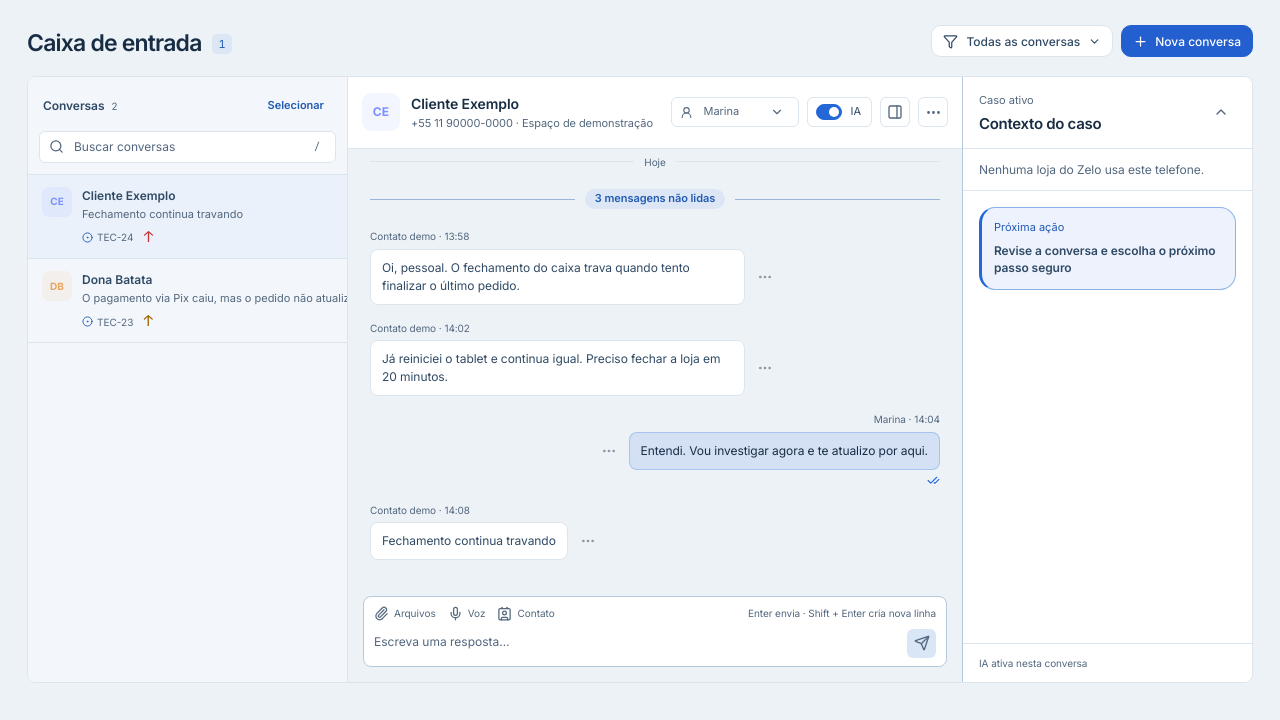
it: InboxPage new chat › selects a contiguous range with Shift+click
(page scrolled)
Click the button "Selecionar" at [296, 106], box top-left (260, 92), bottom-right (332, 120)
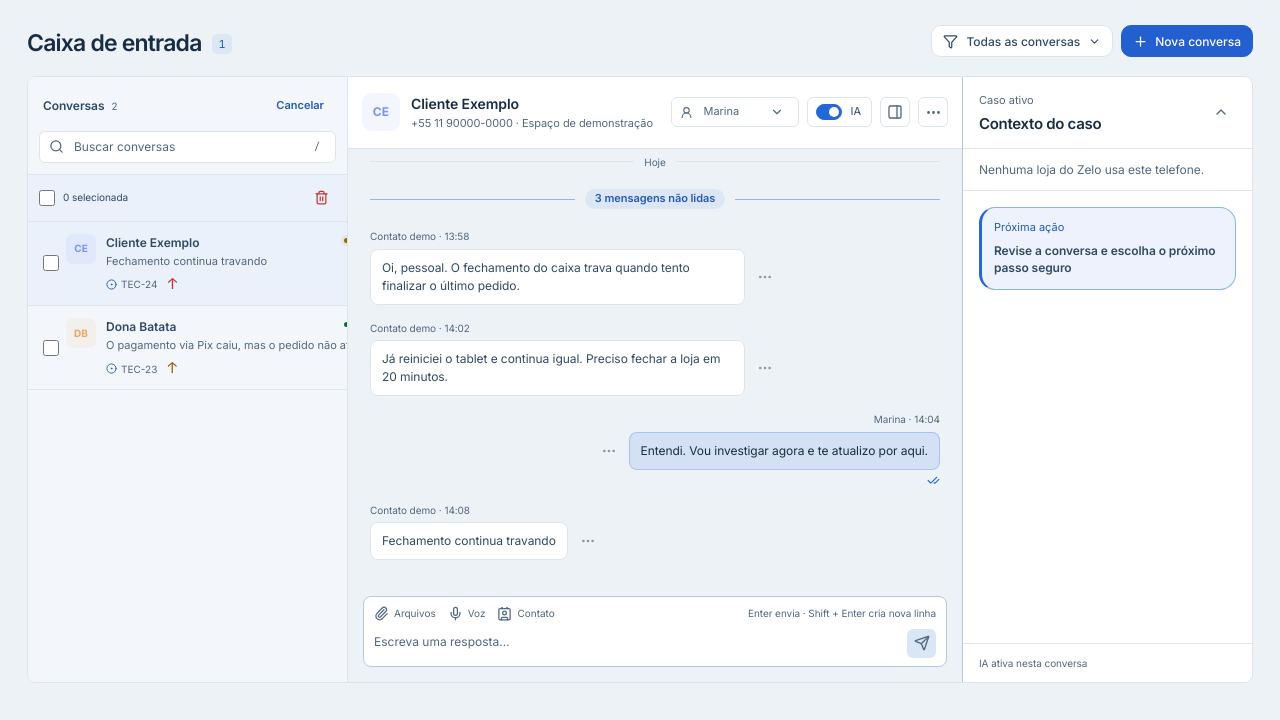
Click the 2nd checkbox at [51, 263], box top-left (43, 255), bottom-right (59, 271)
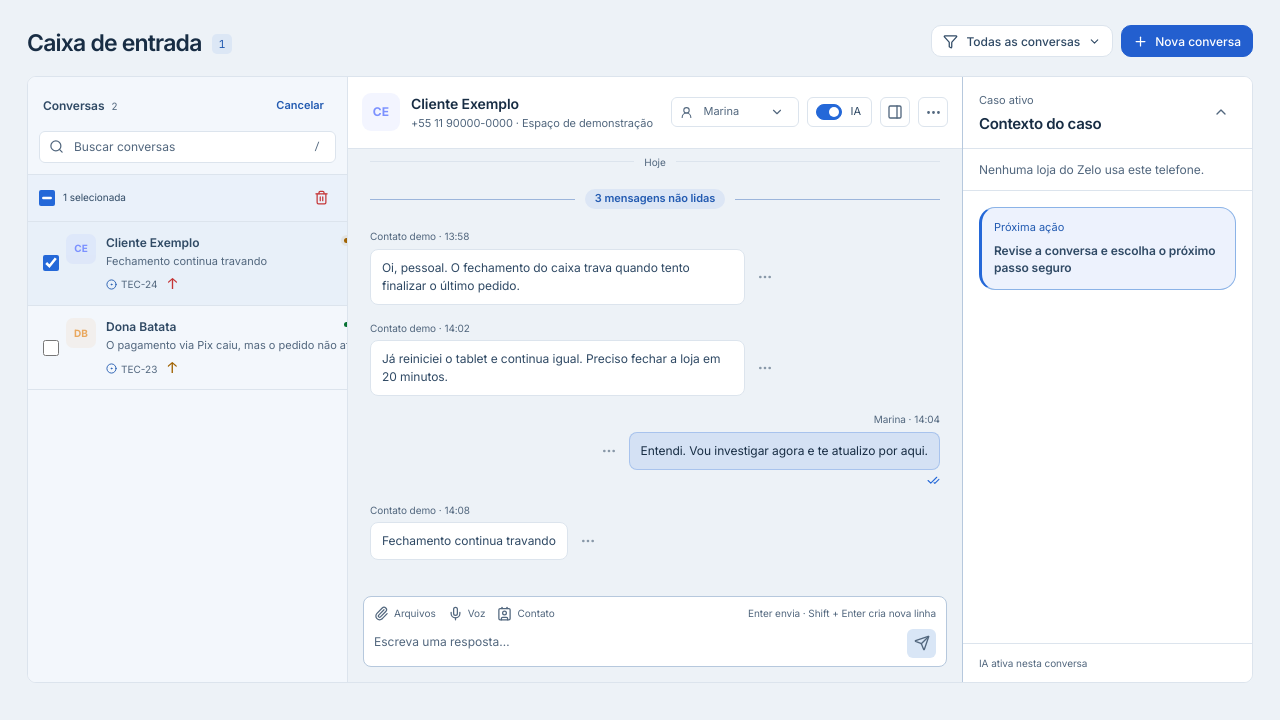
Click the button with aria-label "Alternar seleção da conversa com Dona Batata" at [230, 348], box top-left (66, 306), bottom-right (394, 389)
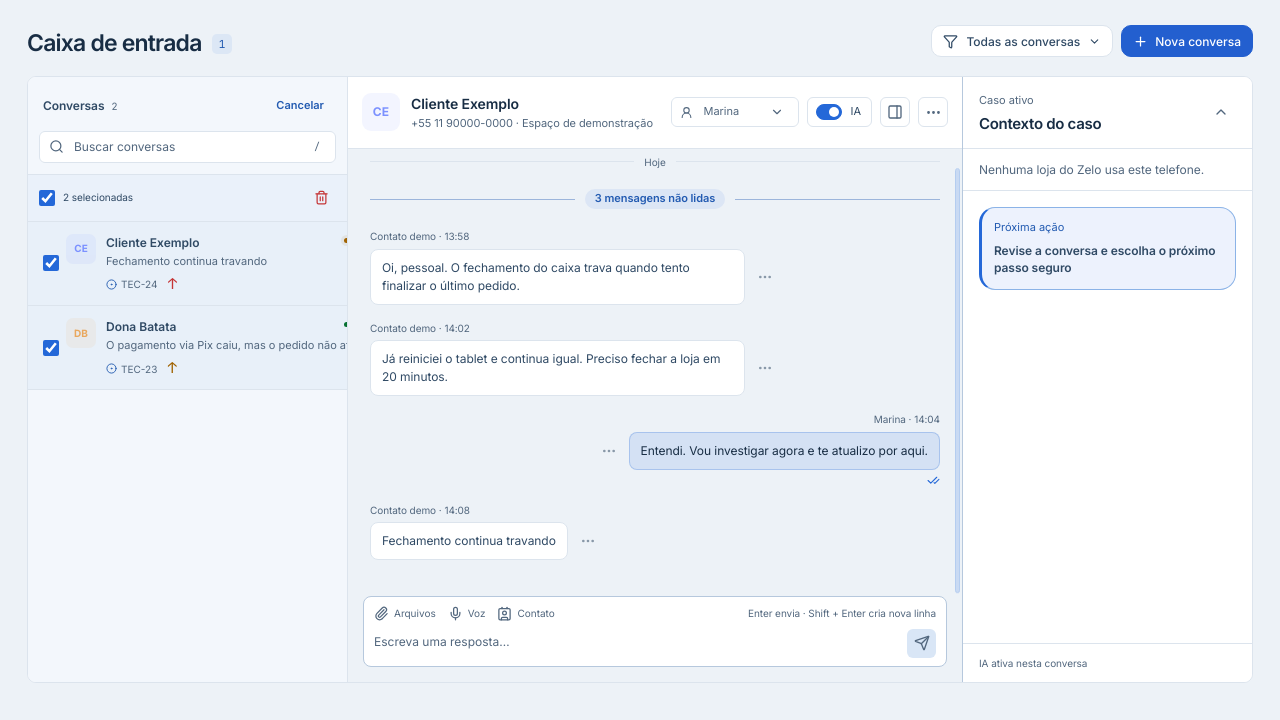
Expected: the text "2 selecionadas" is shown, top-left (63, 190), bottom-right (133, 205)
